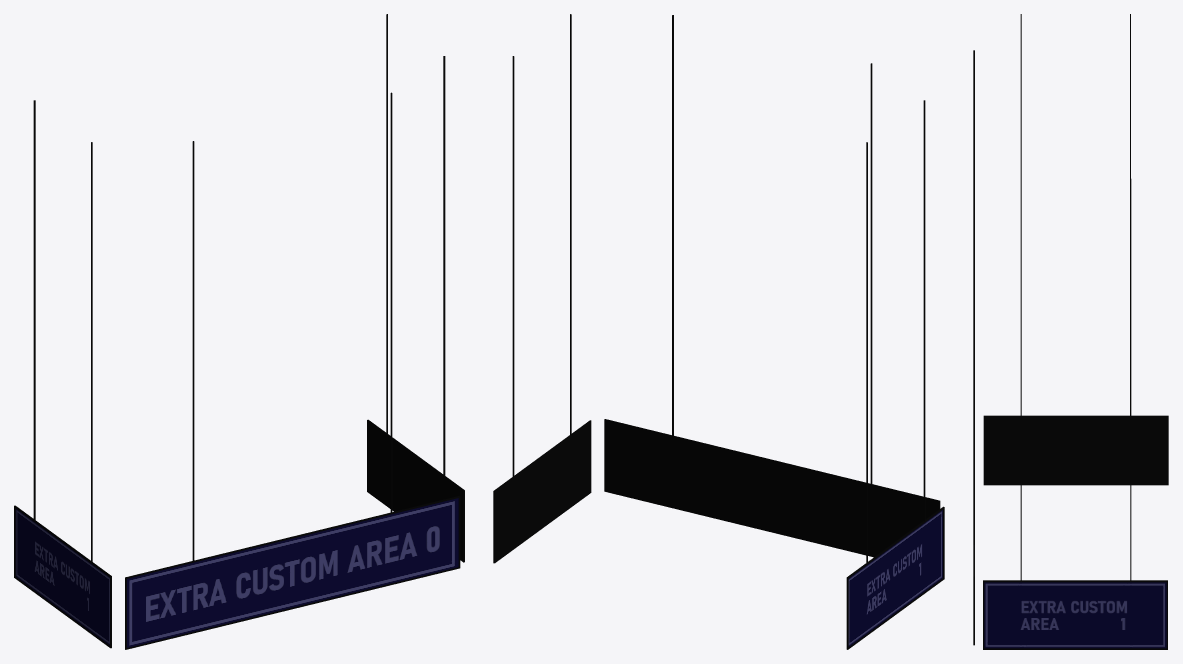
The model's file is stand_main_top_02.fbx.
3 views of the same model, side by side, from view 1: azimuth 30°, elevation 25°; view 2: azimuth 150°, elevation 25°; view 3: azimuth 270°, elevation 25° (orthographic). The views are drawn at different scales.
Visible parts, largest first — view 1: stand_main_top_02; view 2: stand_main_top_02; view 3: stand_main_top_02.
Boxes of the visible parts, x1,y1,x2,y2 form: stand_main_top_02: [14, 14, 464, 649]; stand_main_top_02: [493, 14, 944, 649]; stand_main_top_02: [973, 14, 1168, 649].
Size of the model in its own units: 773 by 1025 by 385.
